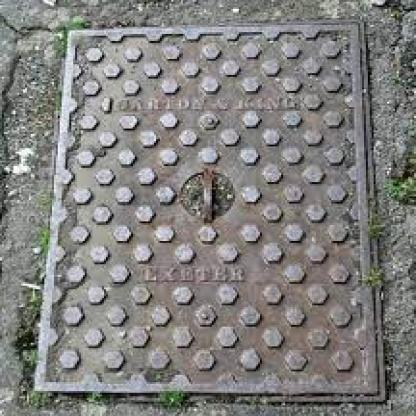closed manhole-not overflowing-: (61, 19, 382, 400)
